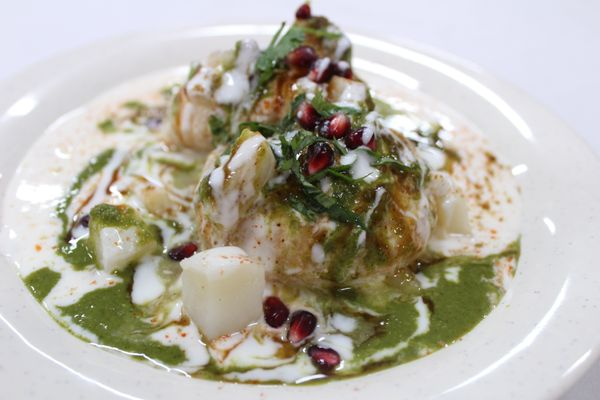sandwich: (5, 18, 535, 384)
